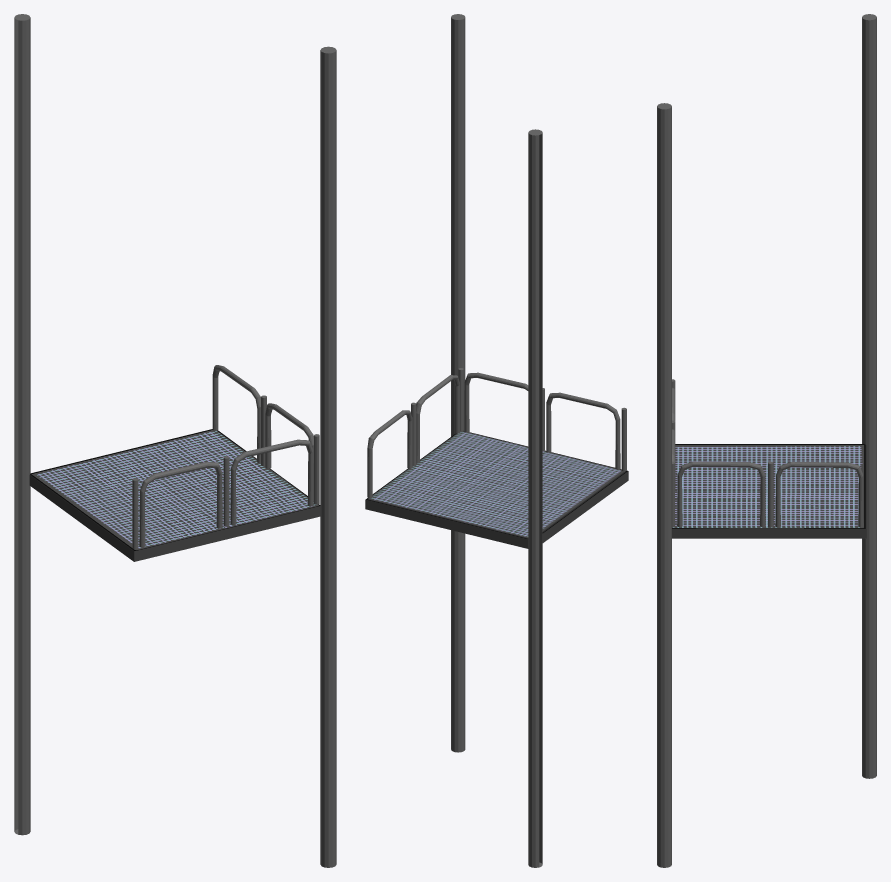
File: scaffolding_corner.fbx
The picture shows the model from 3 angles, left to right: view 1: azimuth 30°, elevation 25°; view 2: azimuth 150°, elevation 25°; view 3: azimuth 270°, elevation 25°; orthographic projection. The views are drawn at different scales.
Visible parts, largest first — view 1: Plane; view 2: Plane; view 3: Plane.
Part boxes in pixels (box(x1,y1,x2,y2)): Plane: box(14, 14, 336, 867); Plane: box(365, 14, 628, 867); Plane: box(657, 14, 876, 867).
Size of the model in its own units: 244 by 904 by 238.
